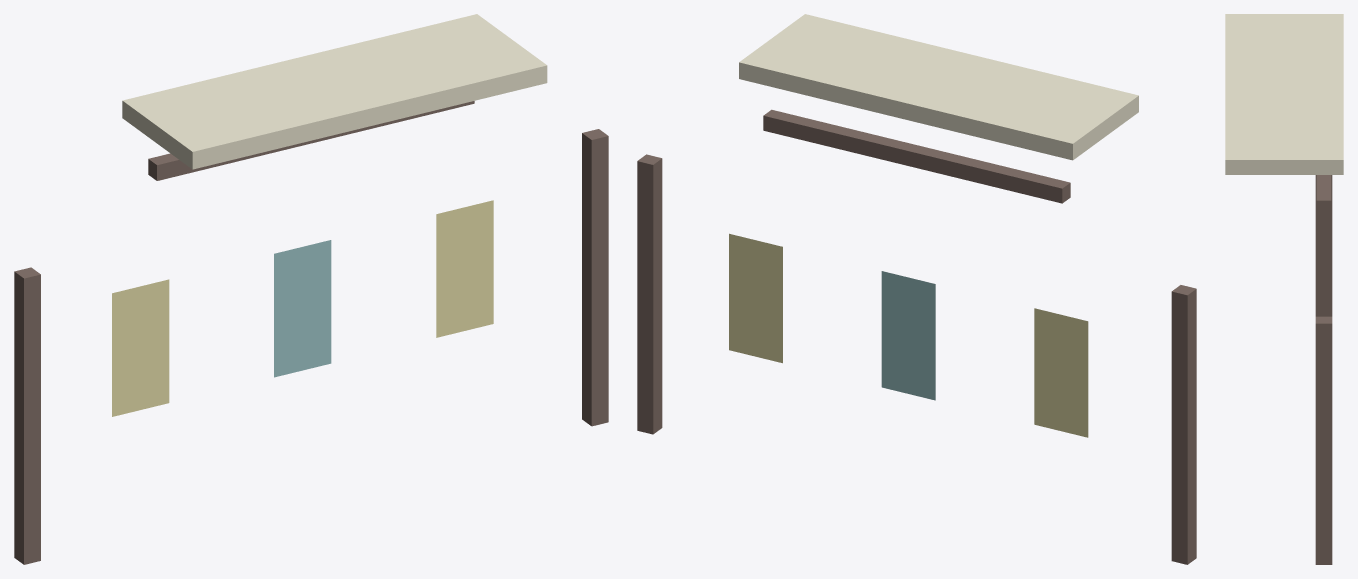
The model's file is harbour-net-rack-01.glb.
The picture shows the model from 3 angles, left to right: view 1: azimuth 30°, elevation 25°; view 2: azimuth 150°, elevation 25°; view 3: azimuth 270°, elevation 25°; orthographic projection. The views are drawn at different scales.
Parts seen in each view (by area): view 1: Awning, Post_-0.84, Post_0.84, Net_0, Net_1, Net_2, Crossbar; view 2: Awning, Crossbar, Post_0.84, Post_-0.84, Net_0, Net_1, Net_2; view 3: Awning, Post_0.84, Post_-0.84, Crossbar.
Part boxes in pixels (bbox=[...]): Awning: bbox=[122, 14, 547, 169]; Post_-0.84: bbox=[14, 267, 40, 564]; Post_0.84: bbox=[582, 129, 608, 426]; Net_0: bbox=[112, 279, 169, 416]; Net_1: bbox=[274, 240, 331, 377]; Net_2: bbox=[436, 200, 493, 337]; Crossbar: bbox=[148, 101, 474, 180]; Awning: bbox=[739, 14, 1138, 160]; Crossbar: bbox=[763, 109, 1070, 203]; Post_0.84: bbox=[637, 154, 662, 434]; Post_-0.84: bbox=[1171, 285, 1196, 564]; Net_0: bbox=[1034, 308, 1088, 437]; Net_1: bbox=[881, 271, 935, 400]; Net_2: bbox=[729, 233, 782, 363]; Awning: bbox=[1225, 14, 1343, 174]; Post_0.84: bbox=[1315, 316, 1332, 564]; Post_-0.84: bbox=[1315, 175, 1332, 316]; Crossbar: bbox=[1316, 175, 1331, 214].
Bounding box in the file's own units: 1.73 × 1.2 × 0.36.
